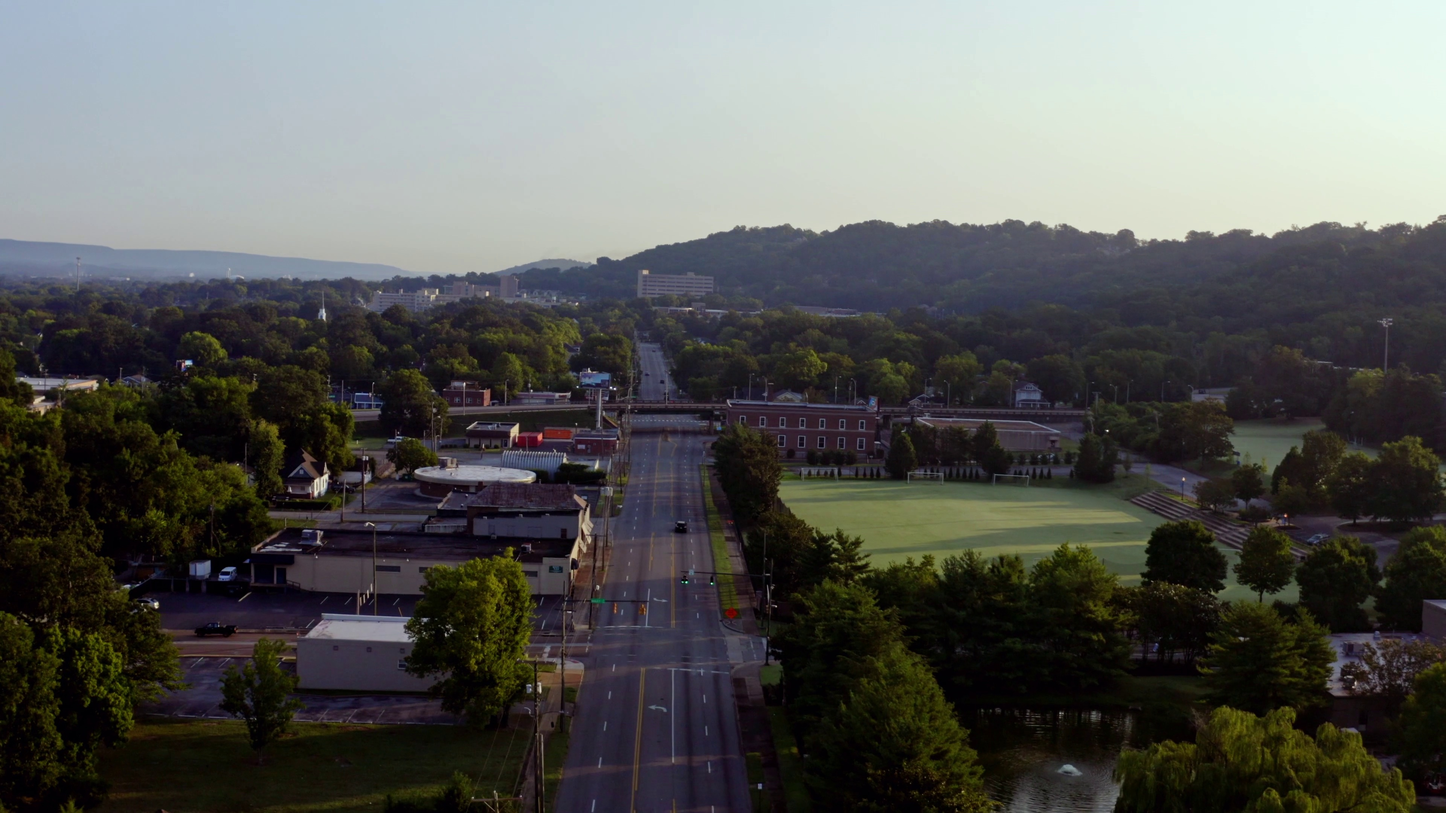Vehicle: (194, 622, 238, 638), (136, 597, 160, 611), (1307, 533, 1330, 546), (218, 567, 237, 581), (332, 483, 356, 494), (675, 521, 687, 533), (643, 372, 650, 376), (659, 379, 665, 383)
